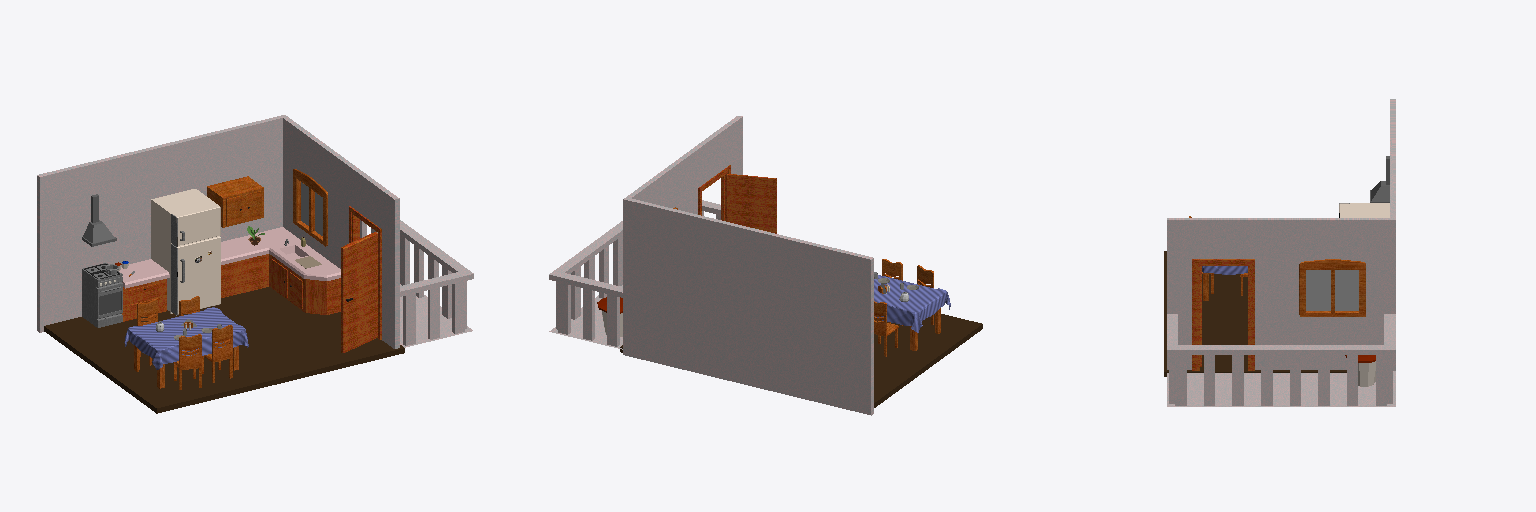
3 renders of one model, left to right at view 1: azimuth 30°, elevation 25°; view 2: azimuth 150°, elevation 25°; view 3: azimuth 270°, elevation 25°, orthographic.
Parts seen in each view (by area): view 1: Room_Plane.003, Cube_Cube.001, Worktop_Plane.007, Fridge_Cube, Fence_Plane.018, Door.001_Plane.011, Mat_Plane.008, Cooker_Plane, Overhead_cupboard_Plane.010, Window_1.001_Plane.006, Room.002_Plane.015, Chair_2_Plane.002 (+2 smaller); view 2: Room_Plane.003, Fence_Plane.018, Cube_Cube.001, Door.001_Plane.011, Mat_Plane.008, Room.002_Plane.015, Chair.001_Plane.002; view 3: Room_Plane.003, Fence_Plane.018, Room.002_Plane.015, Cube_Cube.001, Window_1.001_Plane.006, Door.001_Plane.011, Fridge_Cube, Trash_Circle.006.
Part boxes in pixels (bbox=[...]): Room_Plane.003: bbox=[37, 115, 399, 348]; Cube_Cube.001: bbox=[44, 287, 404, 413]; Worktop_Plane.007: bbox=[119, 227, 340, 321]; Fridge_Cube: bbox=[151, 189, 220, 315]; Fence_Plane.018: bbox=[360, 220, 473, 345]; Door.001_Plane.011: bbox=[341, 206, 381, 352]; Mat_Plane.008: bbox=[124, 307, 248, 369]; Cooker_Plane: bbox=[82, 263, 122, 327]; Overhead_cupboard_Plane.010: bbox=[207, 176, 263, 227]; Window_1.001_Plane.006: bbox=[293, 169, 327, 246]; Room.002_Plane.015: bbox=[400, 284, 472, 347]; Chair_2_Plane.002: bbox=[174, 334, 201, 389]; Room_Plane.003: bbox=[623, 116, 873, 415]; Fence_Plane.018: bbox=[549, 200, 720, 346]; Cube_Cube.001: bbox=[620, 314, 982, 407]; Door.001_Plane.011: bbox=[698, 165, 776, 233]; Mat_Plane.008: bbox=[874, 275, 950, 332]; Room.002_Plane.015: bbox=[549, 285, 622, 349]; Chair.001_Plane.002: bbox=[874, 301, 898, 356]; Room_Plane.003: bbox=[1167, 99, 1395, 370]; Fence_Plane.018: bbox=[1167, 314, 1395, 405]; Room.002_Plane.015: bbox=[1167, 371, 1395, 406]; Cube_Cube.001: bbox=[1164, 251, 1346, 376]; Window_1.001_Plane.006: bbox=[1299, 259, 1365, 316]; Door.001_Plane.011: bbox=[1192, 259, 1254, 370]; Fridge_Cube: bbox=[1339, 203, 1389, 217]; Trash_Circle.006: bbox=[1345, 355, 1375, 386].
Bounding box in the file's own units: 65 × 30 × 40.39.
24 materials, 14 textured.